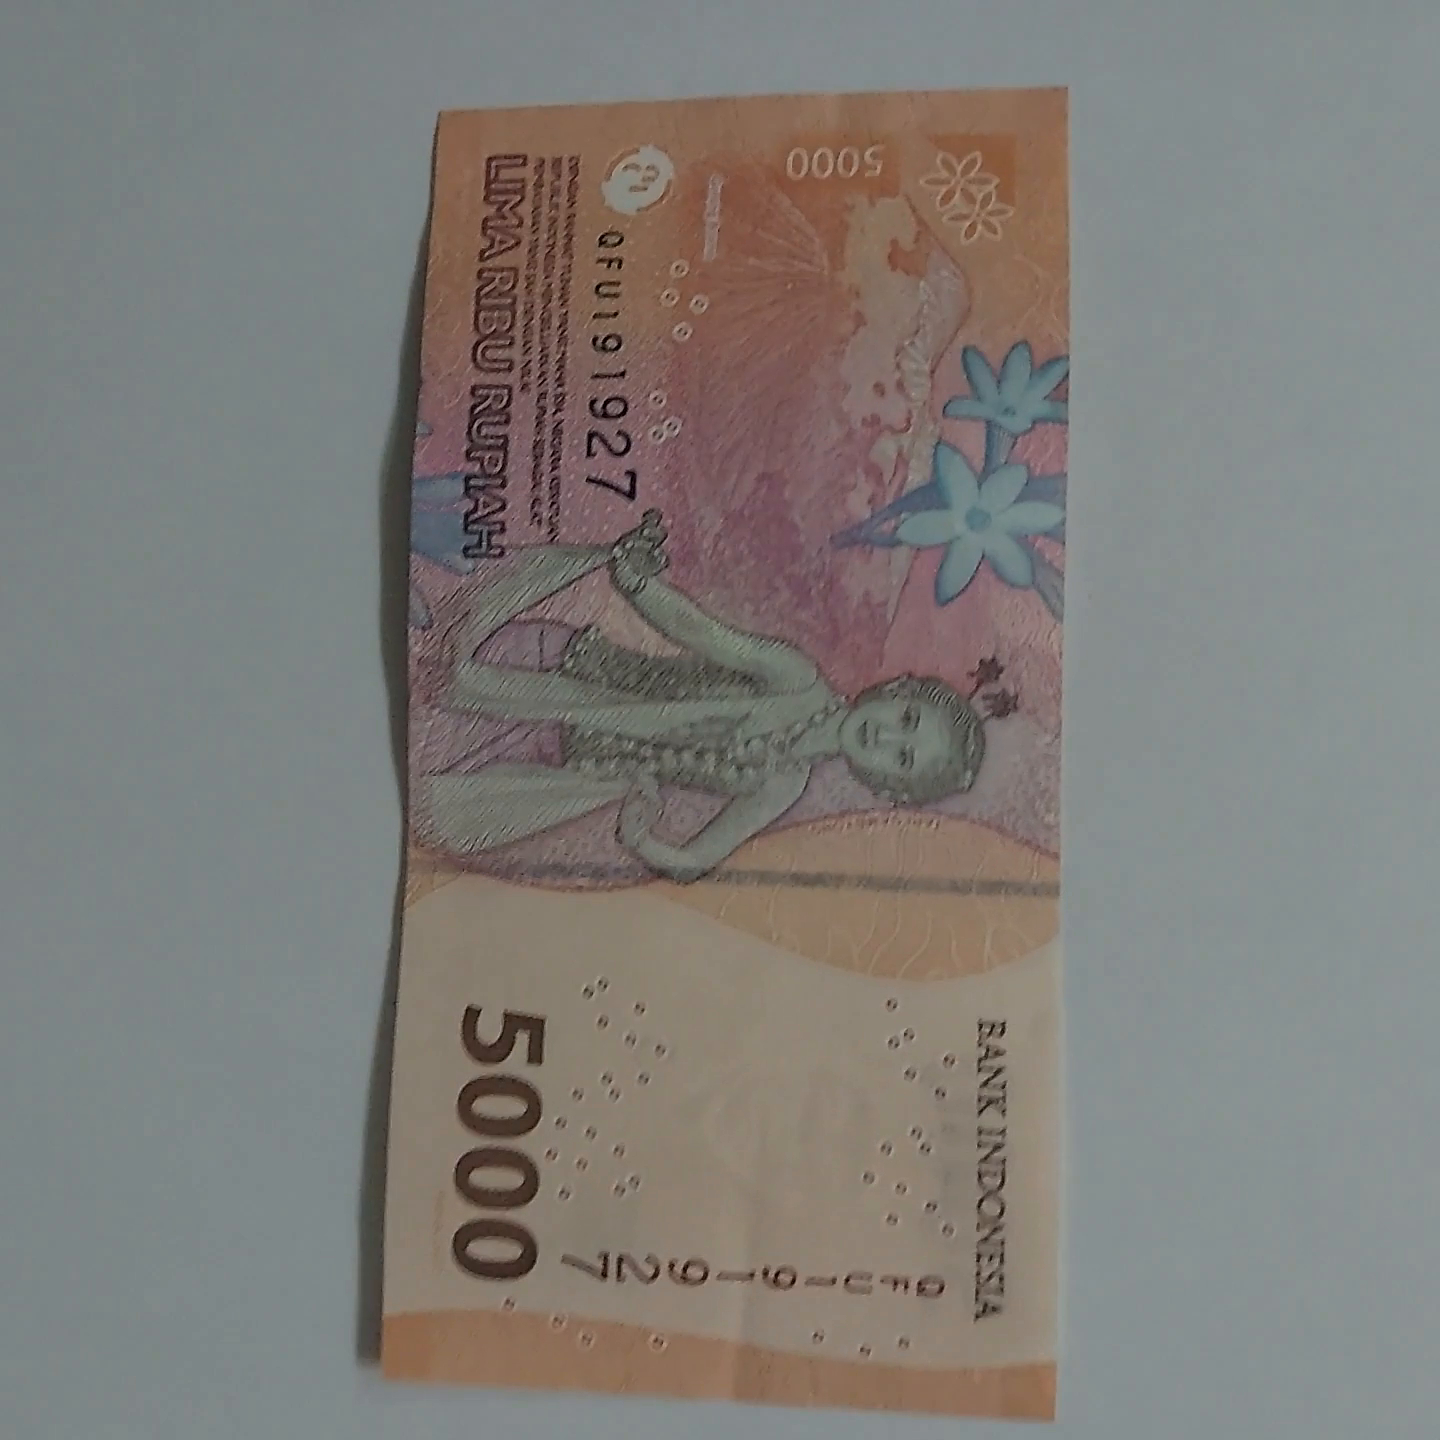5k: (410, 105, 1056, 1408)
